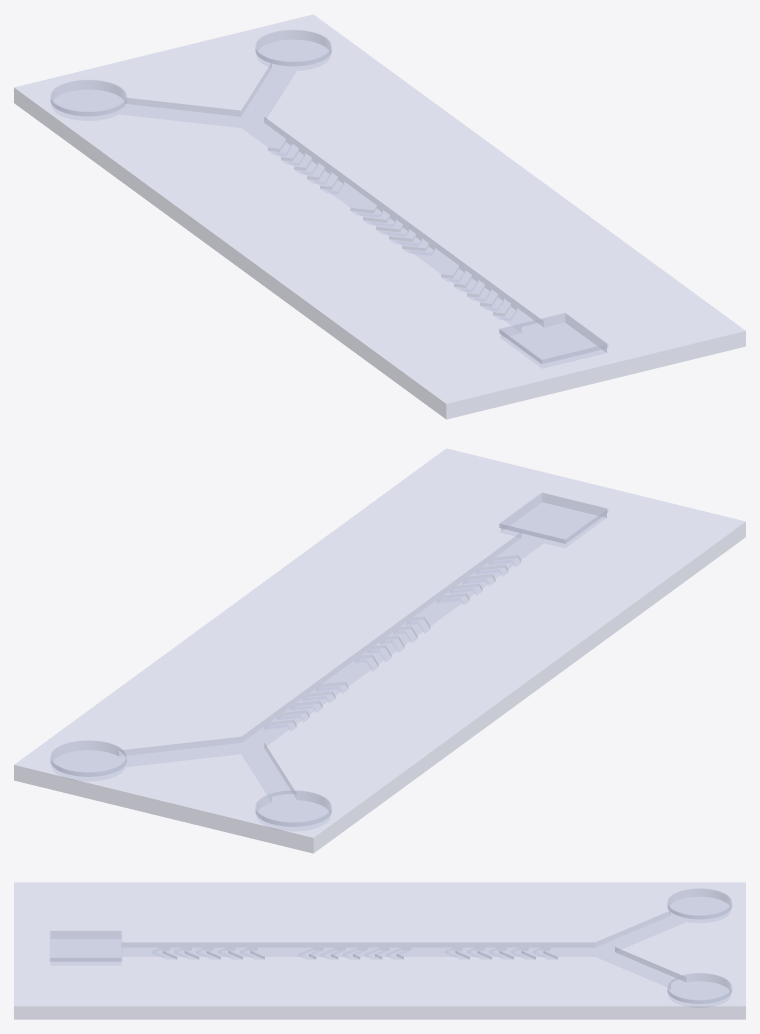
File: microfluidics-chevrons.glb
3 views of the same model, one above another, from view 1: azimuth 30°, elevation 25°; view 2: azimuth 150°, elevation 25°; view 3: azimuth 270°, elevation 25° (orthographic). The views are drawn at different scales.
Visible parts, largest first — view 1: chevrons v5 tall channel-1; view 2: chevrons v5 tall channel-1; view 3: chevrons v5 tall channel-1.
Part boxes in pixels (<box>): chevrons v5 tall channel-1: <box>14,14,745,419</box>; chevrons v5 tall channel-1: <box>14,448,745,853</box>; chevrons v5 tall channel-1: <box>14,882,745,1019</box>.
Size of the model in its own units: 0.02 by 0.001 by 0.05.
